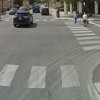crosswalk: (0, 63, 81, 88), (64, 25, 100, 50)
